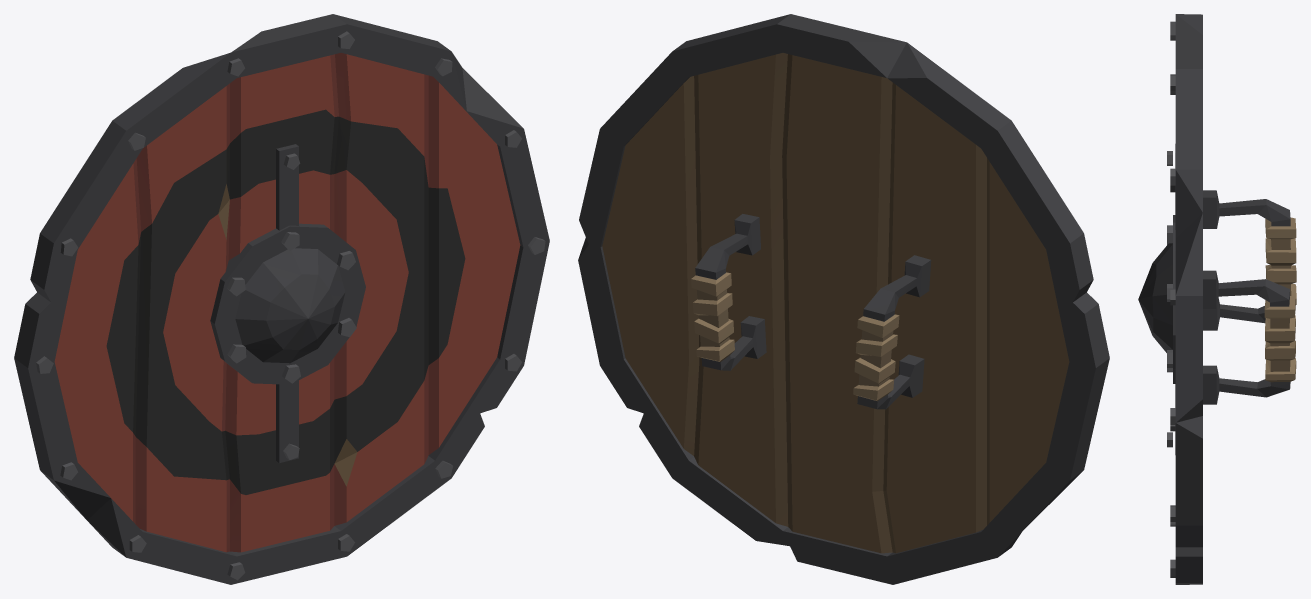
Rendered from Escudo_07.glb.
The picture shows the model from 3 angles, left to right: view 1: azimuth 30°, elevation 25°; view 2: azimuth 150°, elevation 25°; view 3: azimuth 270°, elevation 25°; orthographic projection. The views are drawn at different scales.
Parts seen in each view (by area): view 1: SM_Wep_Shield_04; view 2: SM_Wep_Shield_04; view 3: SM_Wep_Shield_04.
Part boxes in pixels (left/top/right/bottom): SM_Wep_Shield_04: left=14, top=14, right=549, bottom=584; SM_Wep_Shield_04: left=578, top=14, right=1109, bottom=584; SM_Wep_Shield_04: left=1138, top=14, right=1296, bottom=584.
Bounding box in the file's own units: 0.7578 × 0.7388 × 0.2058.
1 material, 1 textured.
